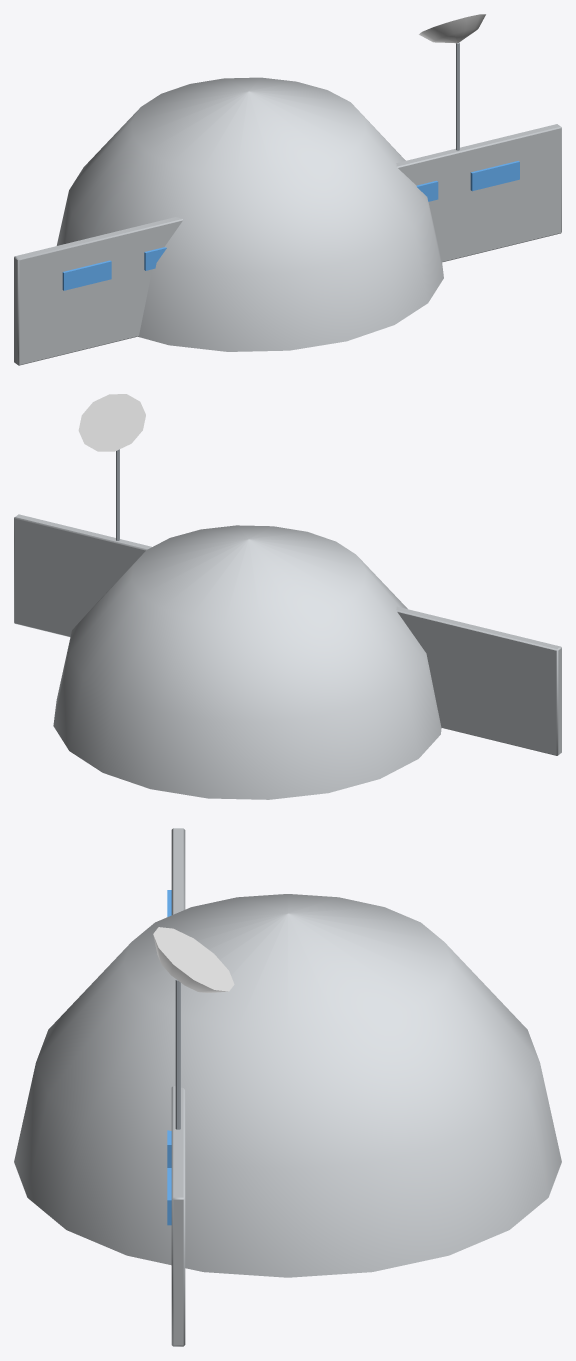
File: set_front_moonbase.glb
The picture shows the model from 3 angles, top to bottom: view 1: azimuth 30°, elevation 25°; view 2: azimuth 150°, elevation 25°; view 3: azimuth 270°, elevation 25°; orthographic projection. The views are drawn at different scales.
Parts seen in each view (by area): view 1: set_front_moonbase; view 2: set_front_moonbase; view 3: set_front_moonbase.
Part boxes in pixels (left/top/right/bottom): set_front_moonbase: left=14, top=14, right=561, bottom=365; set_front_moonbase: left=14, top=394, right=561, bottom=799; set_front_moonbase: left=14, top=828, right=561, bottom=1346.
Size of the model in its own units: 16 by 6.92 by 10.
